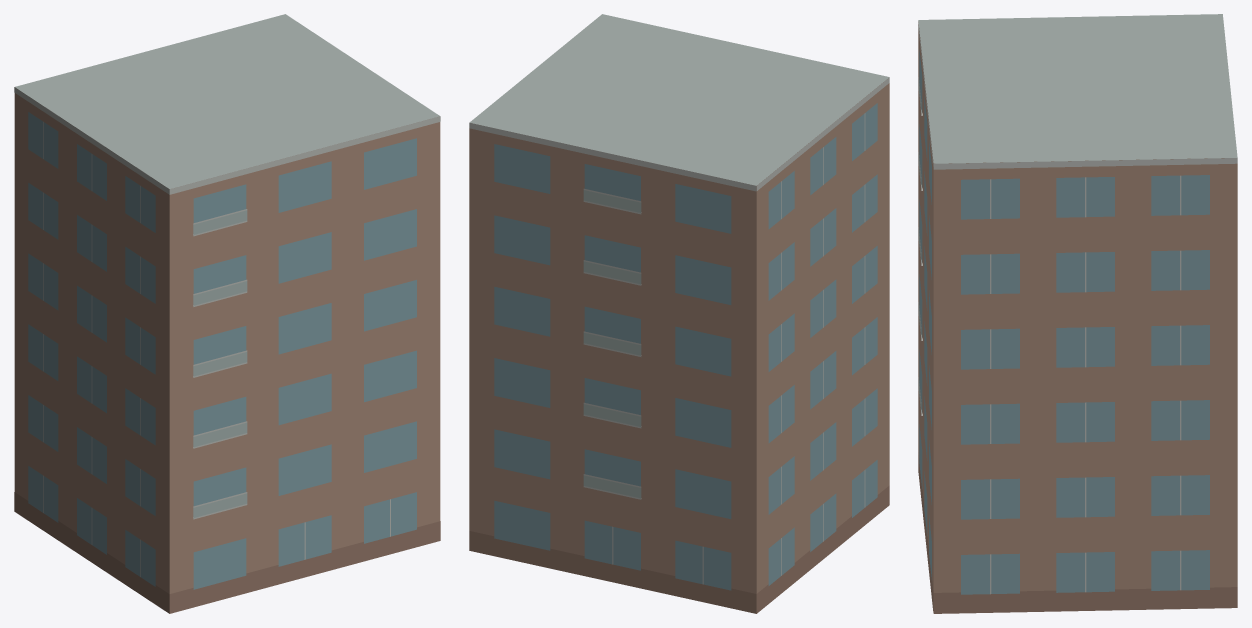
Rendered from survey-upis-32703179.glb.
3 views of the same model, side by side, from view 1: azimuth 30°, elevation 25°; view 2: azimuth 150°, elevation 25°; view 3: azimuth 270°, elevation 25° (orthographic). The views are drawn at different scales.
Parts seen in each view (by area): view 1: survey-upis-32703179.tmp; view 2: survey-upis-32703179.tmp; view 3: survey-upis-32703179.tmp.
Part boxes in pixels (x1,y1,x2,y2): survey-upis-32703179.tmp: (14,14,440,613); survey-upis-32703179.tmp: (469,14,889,613); survey-upis-32703179.tmp: (918,14,1237,613).
Size of the model in its own units: 13.14 by 18.4 by 11.84.
